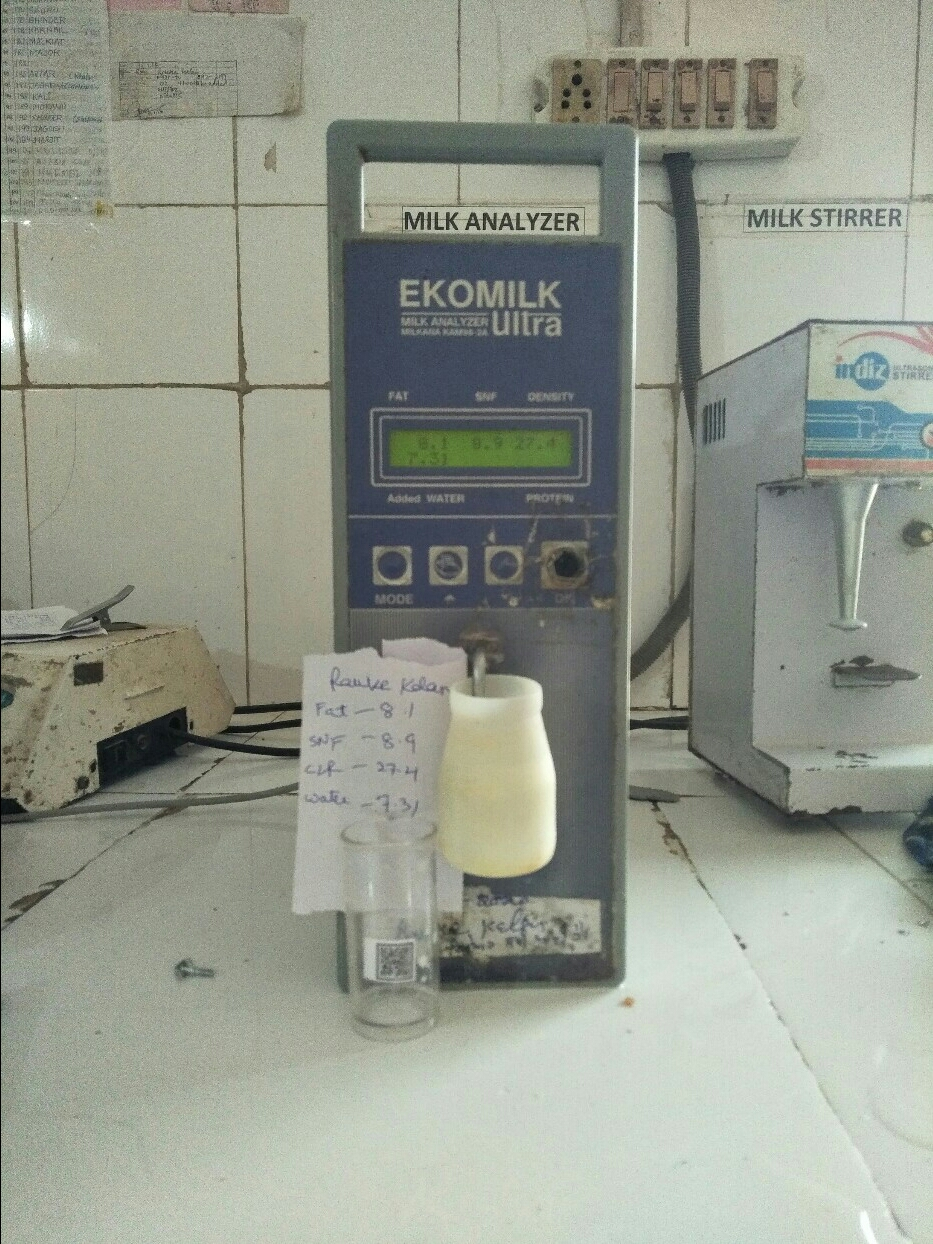lcd: (382, 423, 582, 471)
qr: (371, 939, 422, 984)
